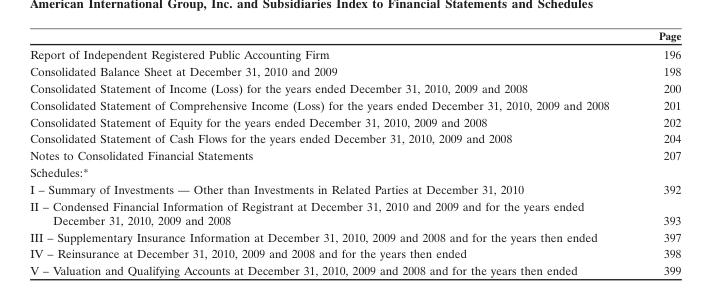table: (29, 28, 680, 277)
table column: (29, 28, 633, 277), (633, 28, 680, 277)
table column header: (29, 28, 680, 44)
table projected row header: (29, 163, 680, 180)
table row: (29, 197, 680, 228), (29, 44, 680, 62), (29, 62, 680, 79), (29, 79, 680, 96), (29, 96, 680, 113), (29, 129, 680, 146), (29, 146, 680, 163), (29, 163, 680, 180), (29, 180, 680, 197), (29, 244, 680, 261), (29, 28, 680, 44), (29, 113, 680, 129), (29, 228, 680, 244), (29, 261, 680, 277)
